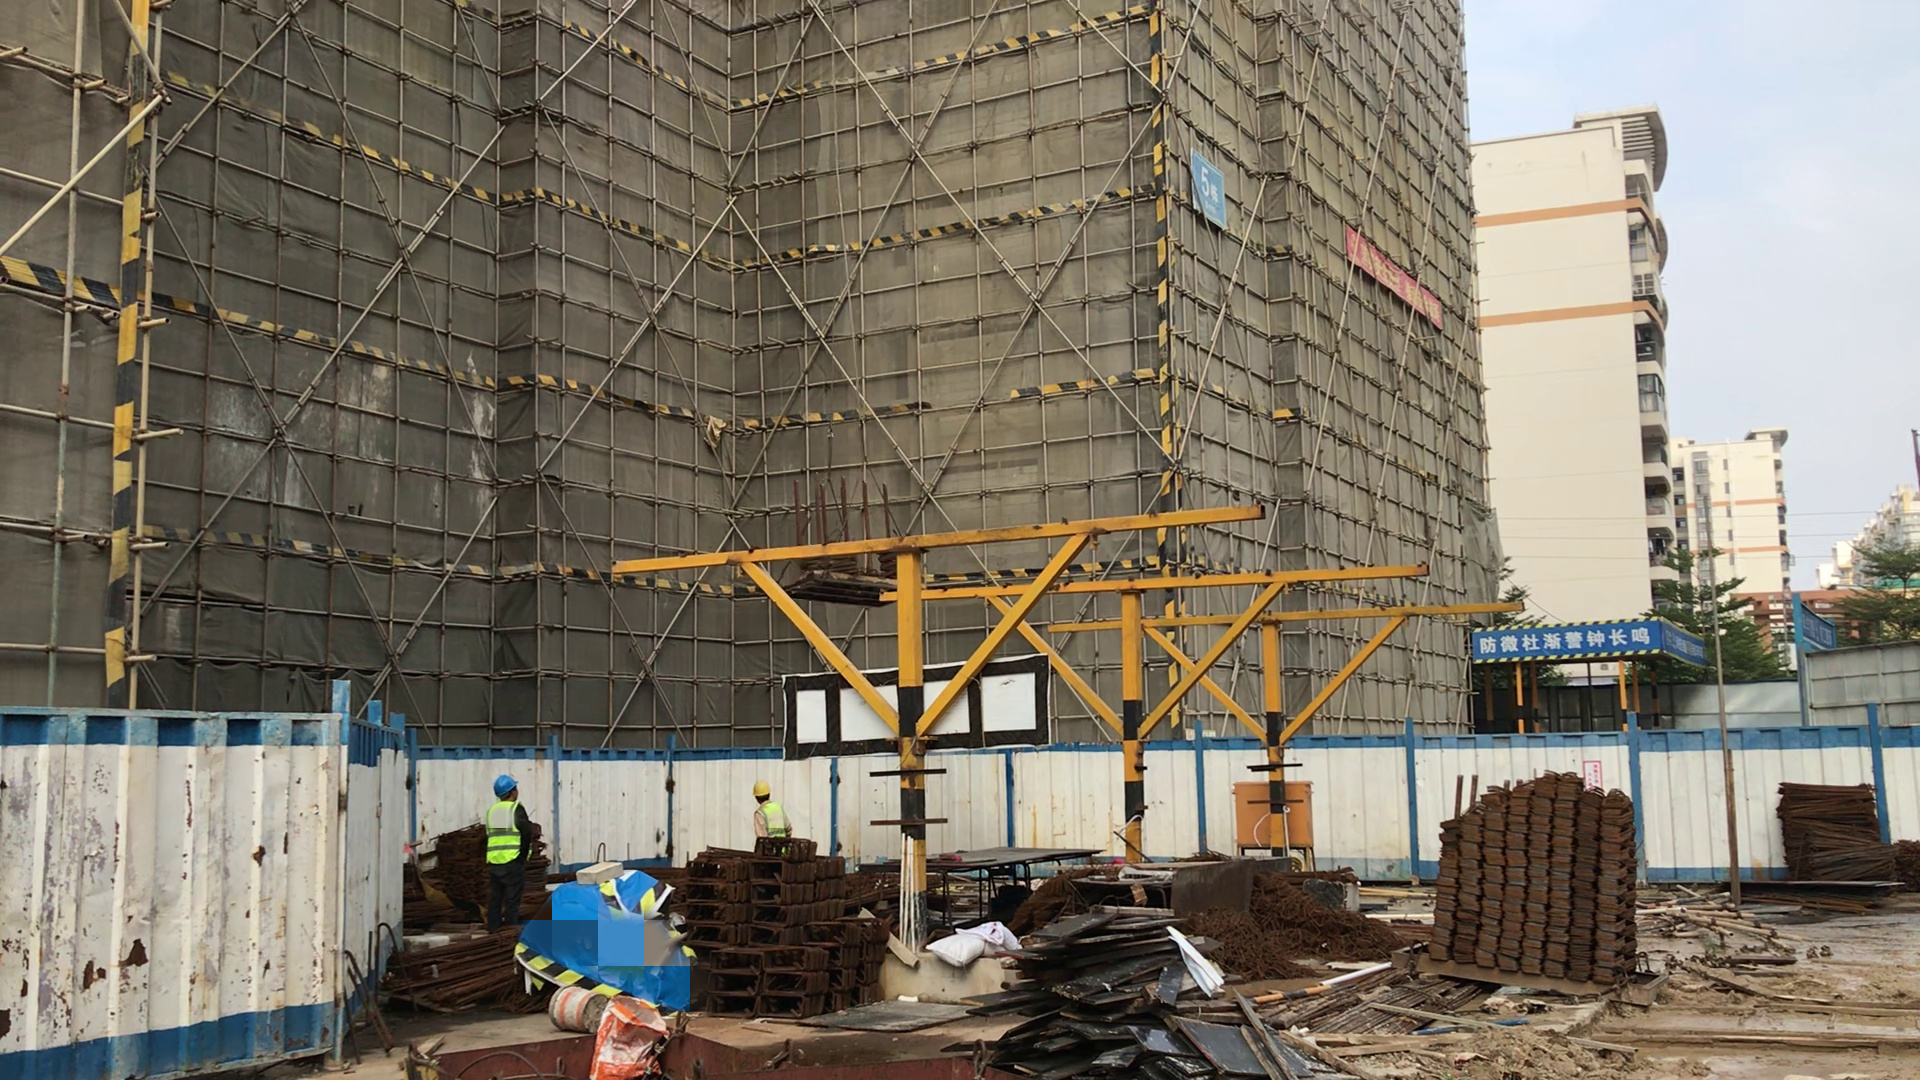helmet: (491, 768, 520, 799), (746, 773, 779, 801)
person: (479, 774, 542, 911), (747, 778, 788, 857)
vest: (487, 800, 543, 871), (760, 805, 787, 833)
